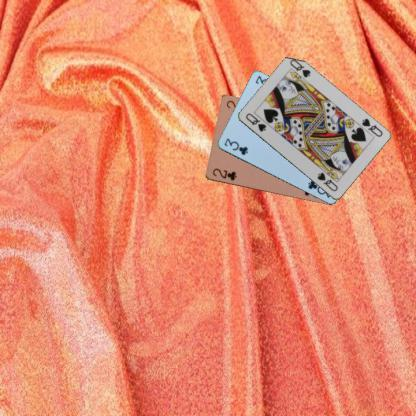2c: (209, 166, 238, 182)
3c: (221, 135, 249, 156)
Qs: (243, 110, 268, 132), (359, 116, 384, 138)
